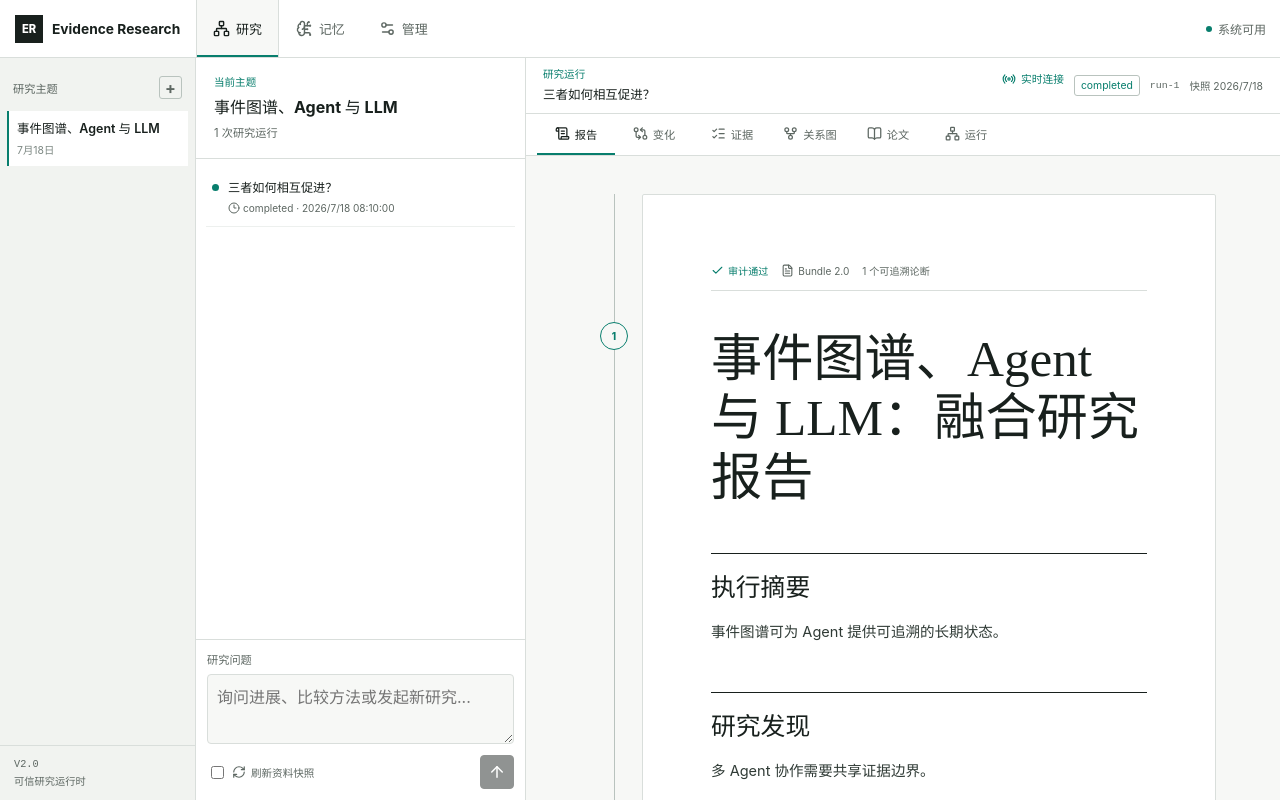
it: research workspace › labels the V1 audit view as a current summary instead of a false snapshot comparison
The width and height of the screenshot is (1280, 800).
Click the tab "变化" at [654, 134], box [615,114,693,155]
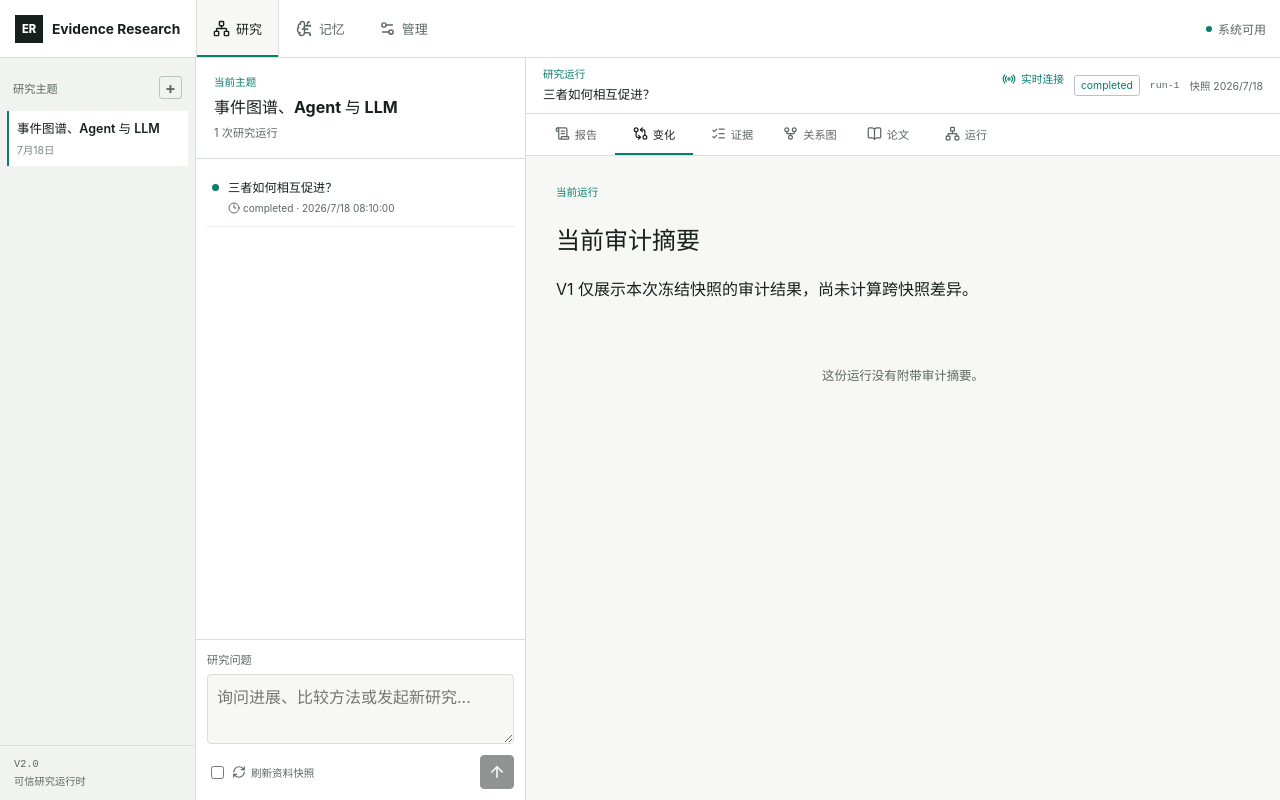
Check: the heading "当前审计摘要" is shown, box [556,228,700,254]
